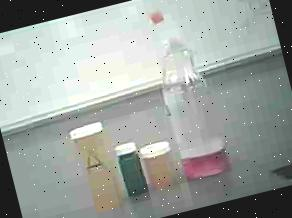Bottle A: (63, 116, 128, 218)
Bottle B: (137, 128, 182, 197)
Bottle C: (108, 130, 155, 204)
hazard: (132, 0, 248, 186)
